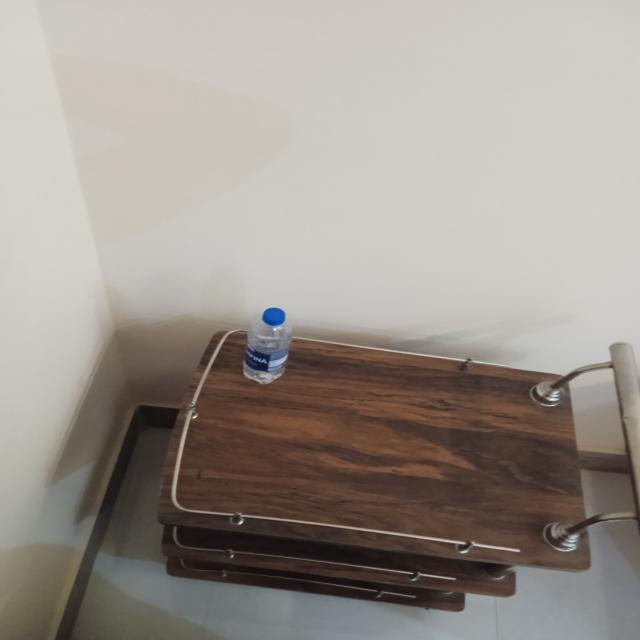Plastic: (238, 303, 302, 389)
